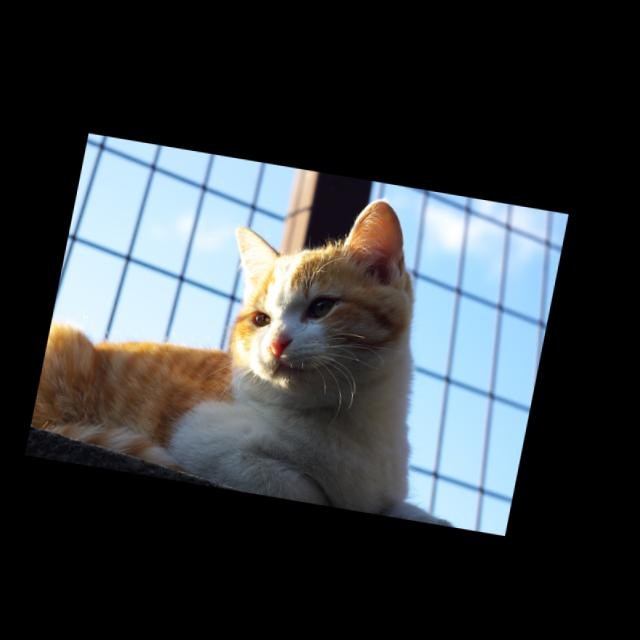animals: (219, 176, 418, 370)
